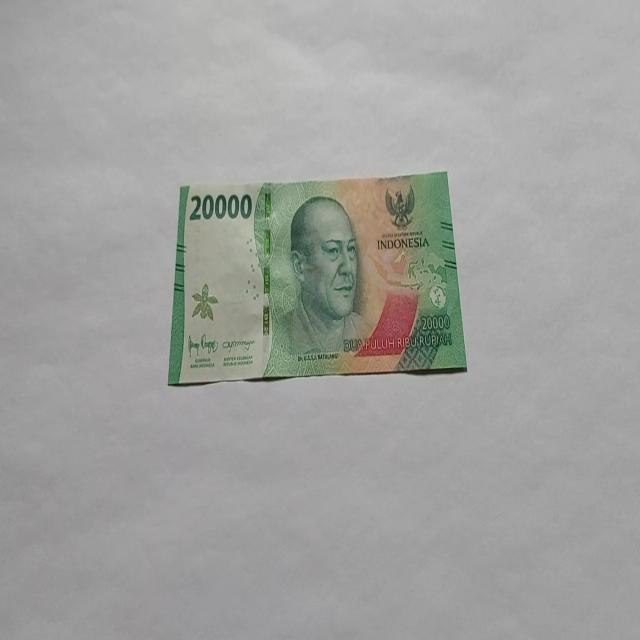dua puluh ribu rupiah: (166, 170, 468, 386)
